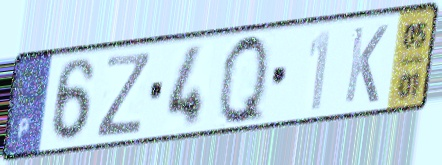1: (306, 28, 333, 114)
4: (163, 41, 210, 130)
6: (48, 56, 98, 146)
K: (341, 22, 391, 107)
Q: (217, 29, 271, 128)
Z: (93, 49, 154, 141)
